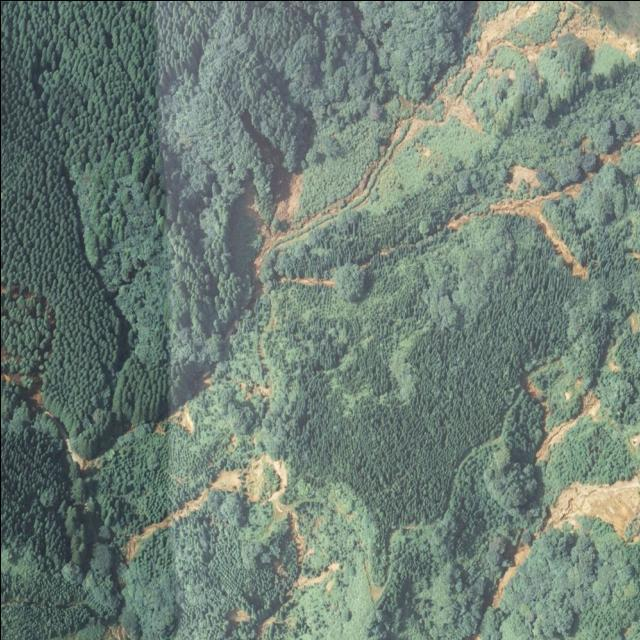landslide: (122, 453, 293, 561), (444, 182, 587, 278), (252, 173, 369, 277), (520, 0, 640, 60), (460, 1, 540, 74), (445, 97, 479, 128), (507, 162, 539, 189), (536, 429, 560, 458), (280, 275, 333, 287), (582, 394, 598, 414)
